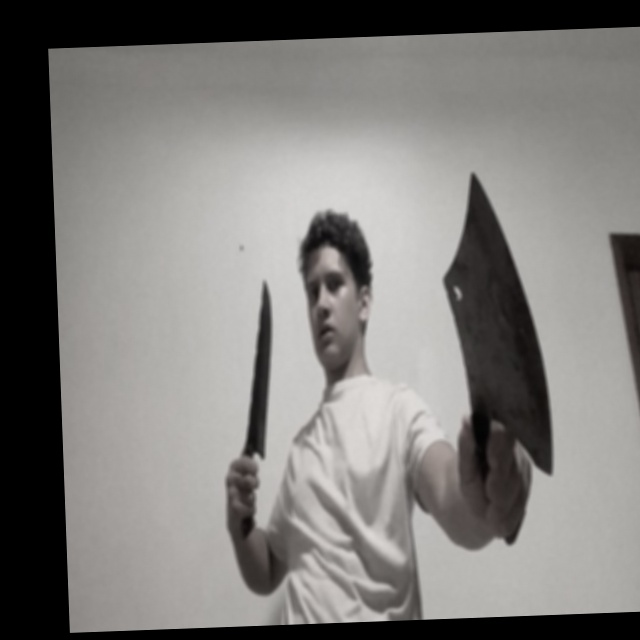Sharp-Object: (438, 168, 554, 476), (240, 280, 277, 459)
